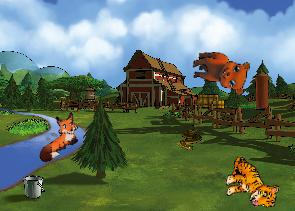bear: (190, 51, 250, 95)
fox: (26, 108, 88, 165)
tiger: (221, 155, 283, 210)
